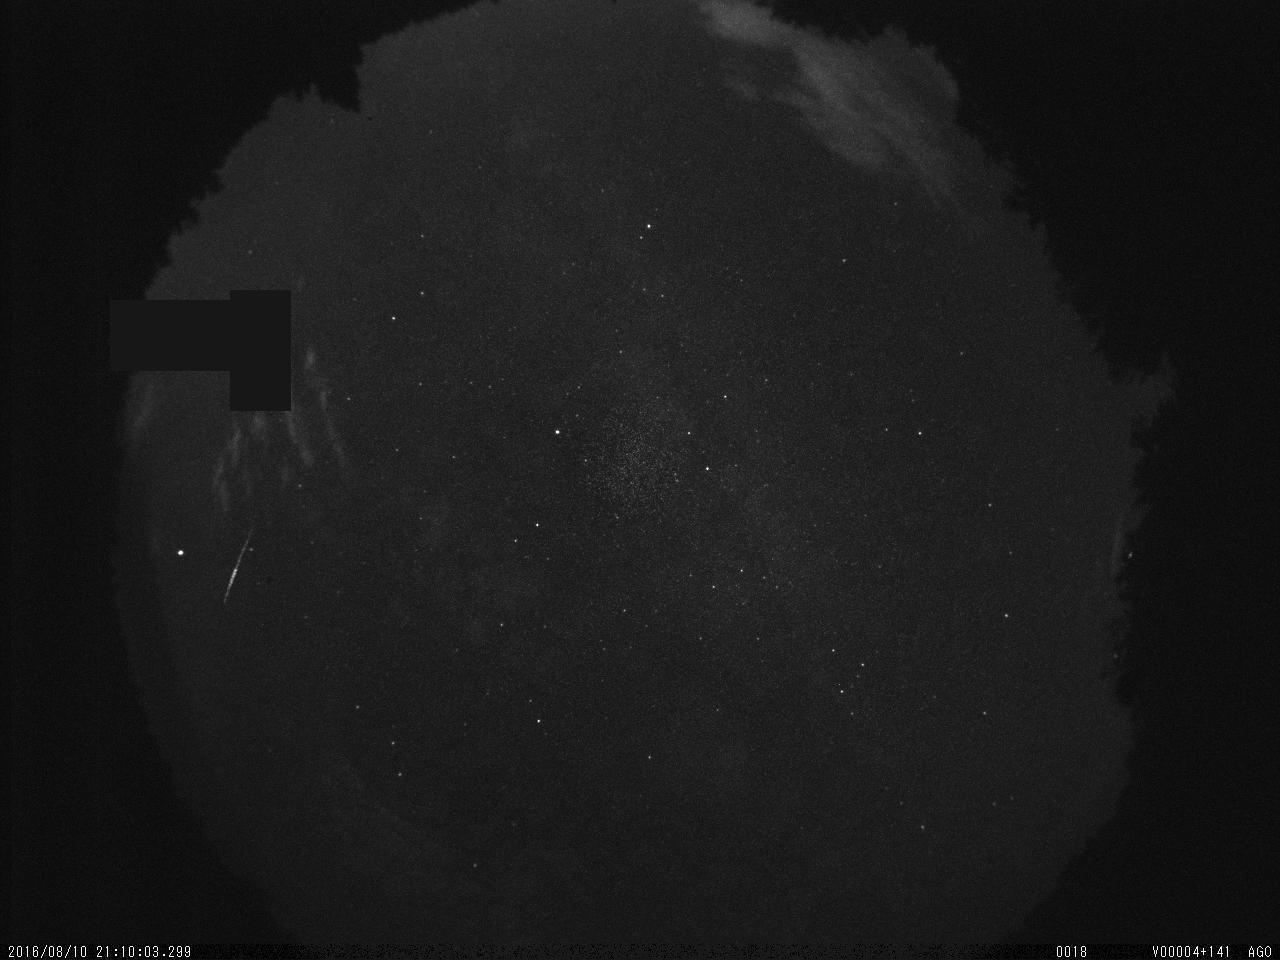Meteor: (219, 523, 256, 606)
